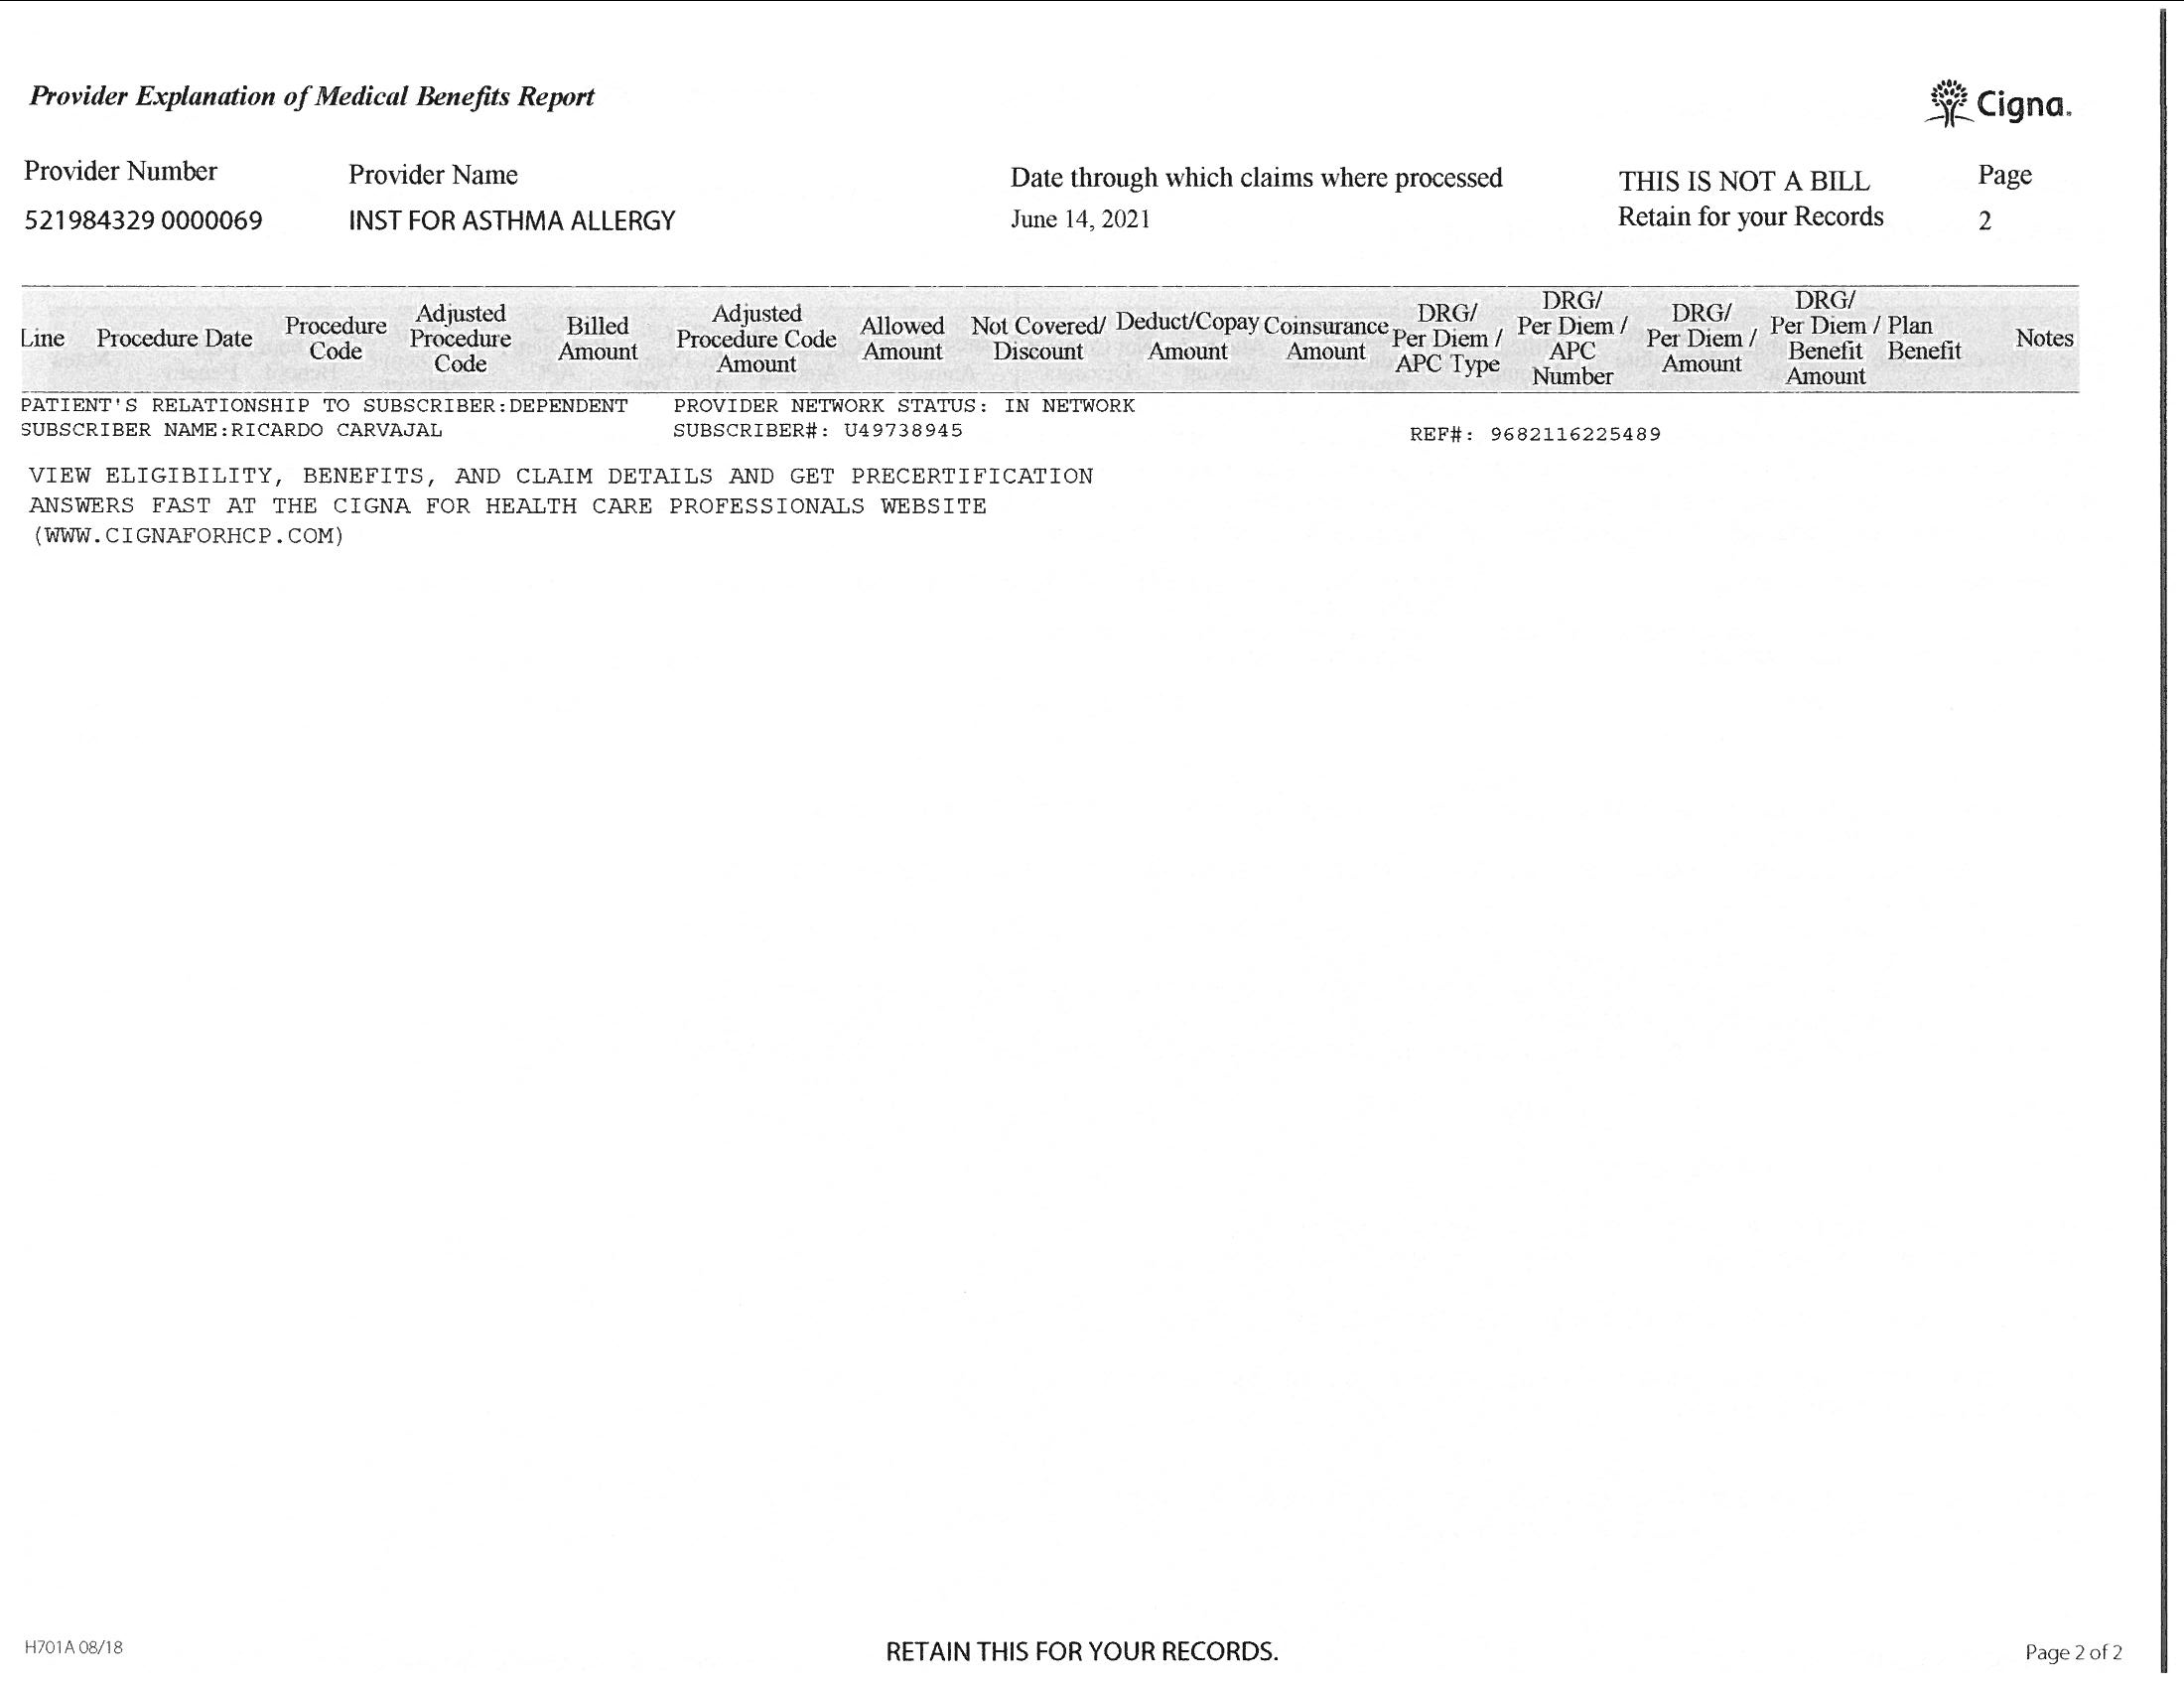data: (12, 145, 721, 255)
table: (5, 280, 2088, 457)
